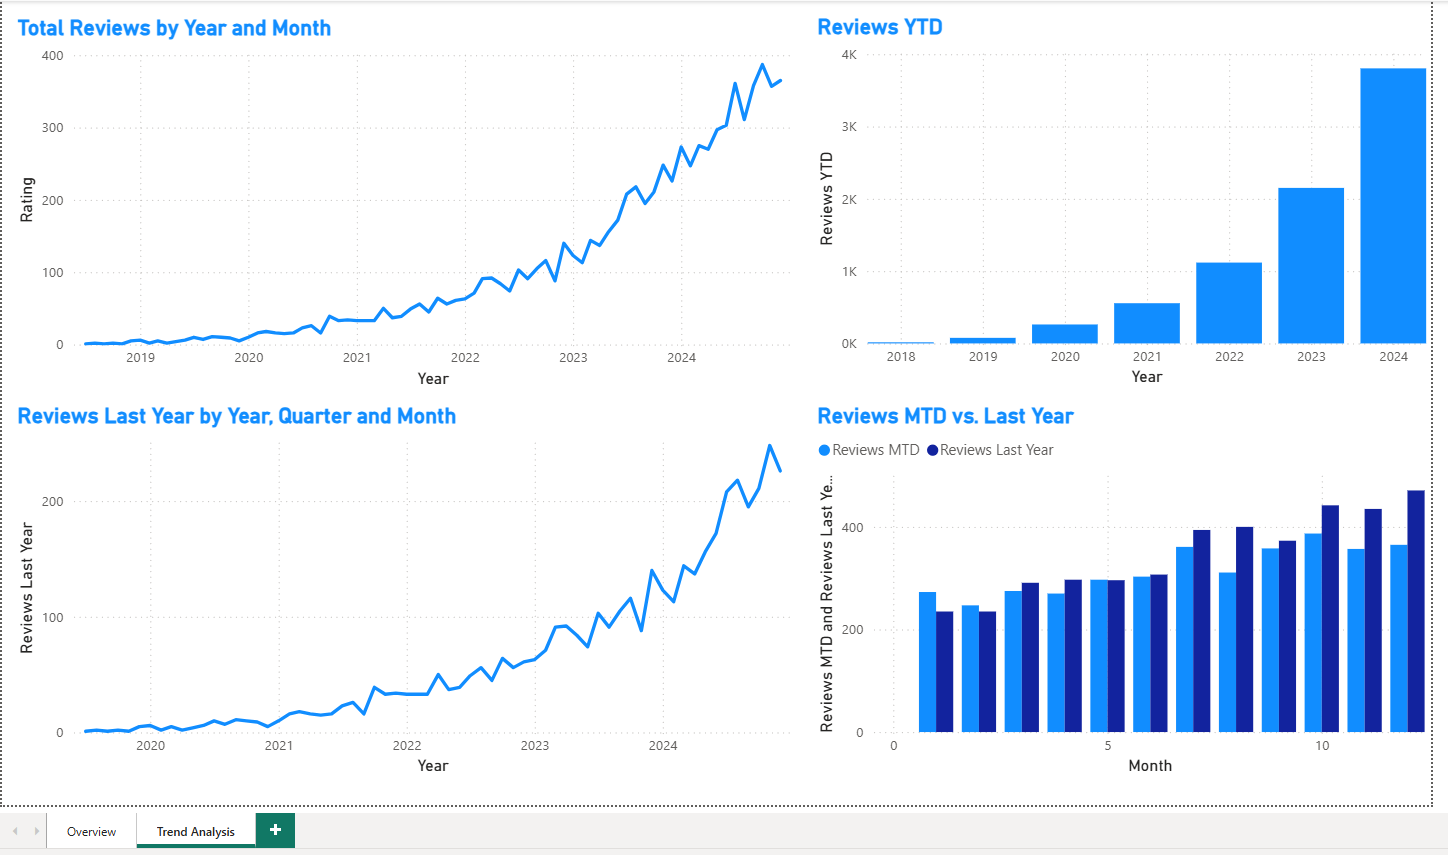

What the dashboard file says about the page in this screenshot:
{"tool":"powerbi","page":{"name":"Trend Analysis","canvas":[1280,720],"ordinal":1},"visuals":[{"type":"lineChart","title":"Total Reviews by Year and Month","fields":{"Category":["dim_date.Date.Variation.Date Hierarchy.Year","dim_date.Date.Variation.Date Hierarchy.Month"],"Y":["reviews.Total Reviews"]},"box":[9.3,12.4,706.2,338.1],"z":0},{"type":"lineChart","fields":{"Y":["reviews.Reviews Last Year"],"Category":["dim_date.Date.Variation.Date Hierarchy.Year","dim_date.Date.Variation.Date Hierarchy.Quarter","dim_date.Date.Variation.Date Hierarchy.Month","dim_date.Date.Variation.Date Hierarchy.Day"]},"box":[9,360,706,338],"z":1000},{"type":"lineChart","title":"Reviews YTD and MTD","fields":{"Category":["dim_date.Date.Variation.Date Hierarchy.Year","dim_date.Date.Variation.Date Hierarchy.Quarter","dim_date.Date.Variation.Date Hierarchy.Month","dim_date.Date.Variation.Date Hierarchy.Day"],"Y":["reviews.Reviews YTD","reviews.Reviews MTD"]},"box":[725,12,555,338],"z":1001}]}

Visuals, with their boxes on the page's 1280x720 design canvas (x1, y1, x2, y2). These are canvas units, not pixel positions in the 1448x855 screenshot, which may show the page scaled, cropped or inside an application window:
"Total Reviews by Year and Month" lineChart: 9/12/716/350
lineChart - reviews.Reviews Last Year x dim_date.Date.Variation.Date Hierarchy.Year: 9/360/715/698
"Reviews YTD and MTD" lineChart: 725/12/1280/350
